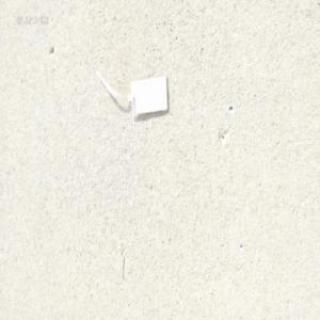LuggageTagtrack_idkeyframe: (91, 69, 168, 118)
